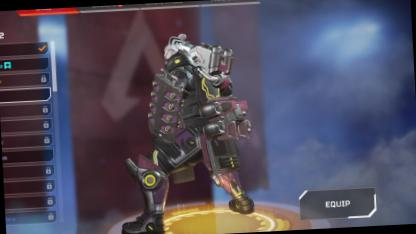Target: (140, 28, 256, 189)
